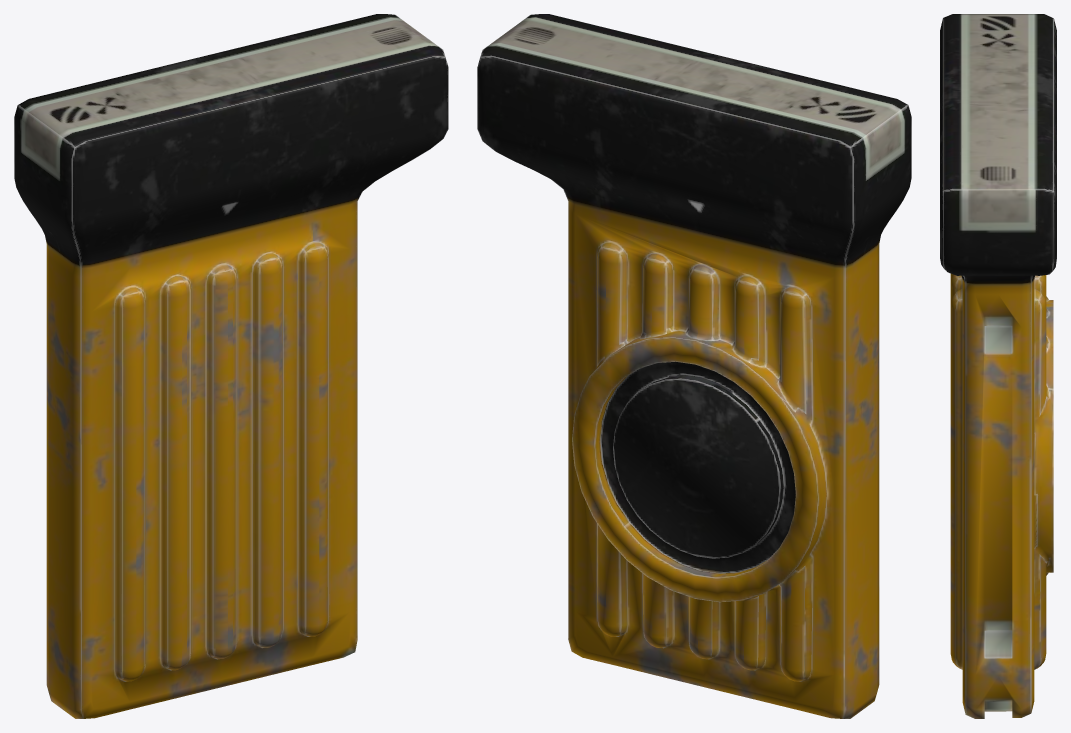
The model's file is datapod_yellow.glb.
The picture shows the model from 3 angles, left to right: view 1: azimuth 30°, elevation 25°; view 2: azimuth 150°, elevation 25°; view 3: azimuth 270°, elevation 25°; orthographic projection. The views are drawn at different scales.
Visible parts, largest first — view 1: Blue Pod; view 2: Blue Pod; view 3: Blue Pod.
Boxes of the visible parts, <box> form: Blue Pod: <box>14,14,448,718</box>; Blue Pod: <box>477,14,911,718</box>; Blue Pod: <box>940,14,1056,718</box>.
Size of the model in its own units: 115 by 172 by 31.9.
1 material, 1 textured.
